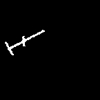double_crochet: (5, 30, 43, 54)
